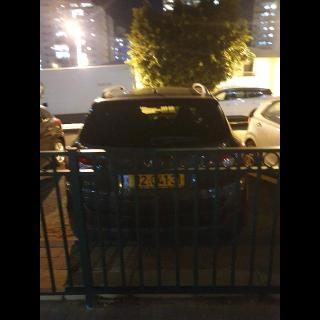LicensePlate: (130, 175, 184, 186)
